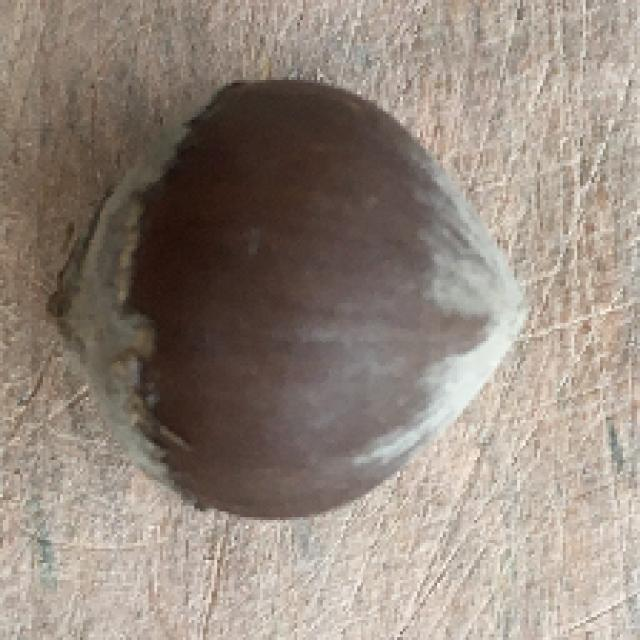damagedHazelnut: (55, 73, 530, 513)
